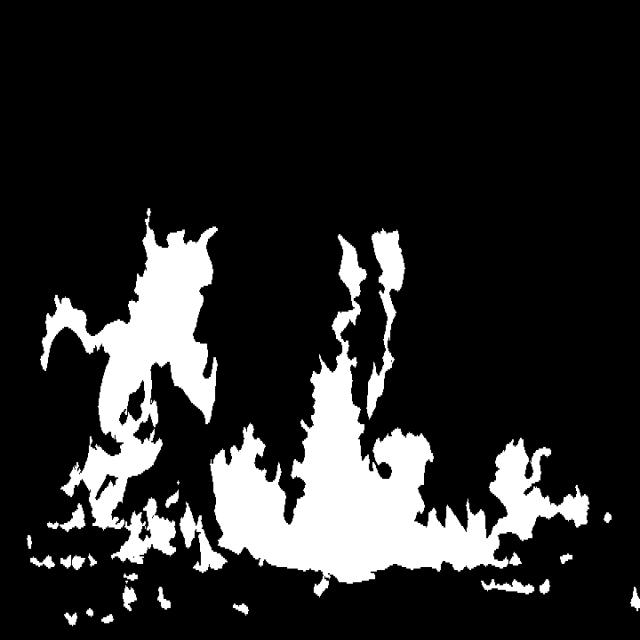fire: (32, 206, 592, 607)
